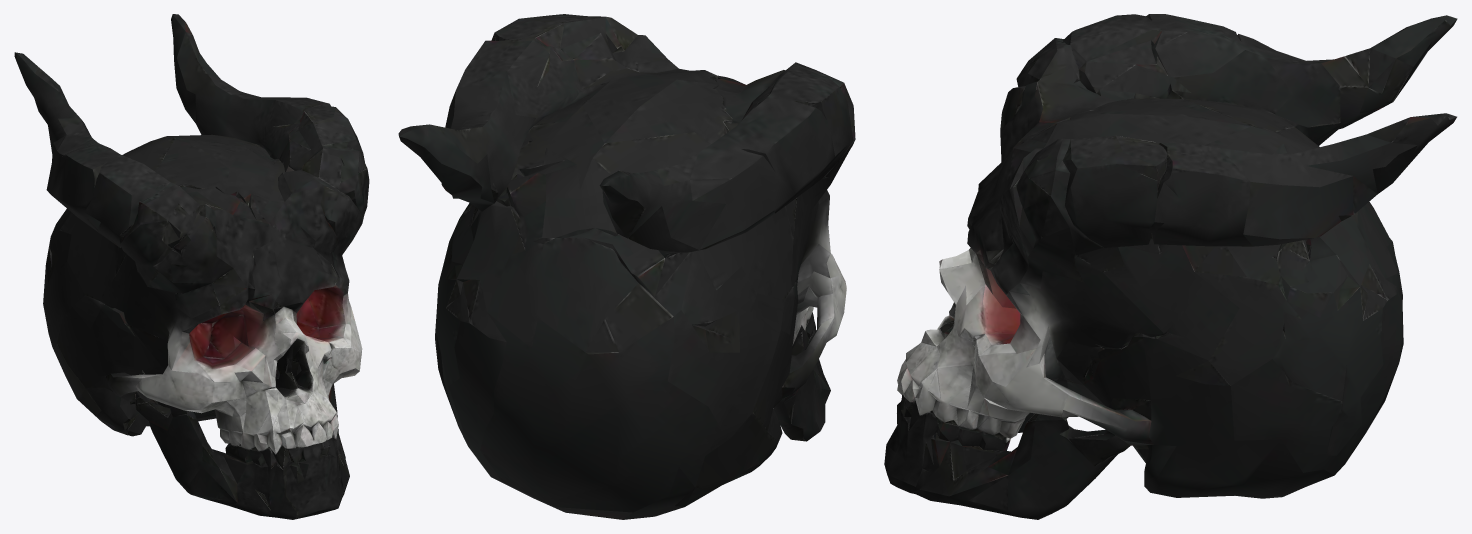
File: skulldread.glb
The picture shows the model from 3 angles, left to right: view 1: azimuth 30°, elevation 25°; view 2: azimuth 150°, elevation 25°; view 3: azimuth 270°, elevation 25°; orthographic projection. The views are drawn at different scales.
Parts seen in each view (by area): view 1: mesh_node; view 2: mesh_node; view 3: mesh_node.
Part boxes in pixels (x1=…): mesh_node: x1=14, y1=14, x2=369, y2=519; mesh_node: x1=398, y1=14, x2=855, y2=519; mesh_node: x1=884, y1=14, x2=1457, y2=519.
Size of the model in its own units: 1.33 by 1.51 by 1.9.
Materials: 1 (1 with a texture image).
